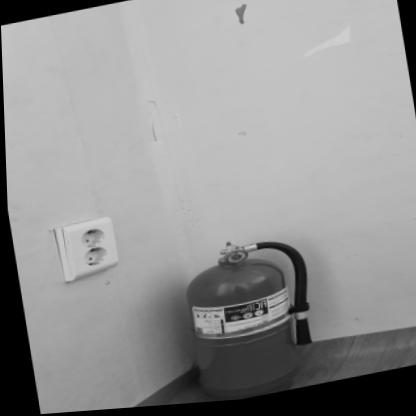FE: (174, 236, 321, 406)
